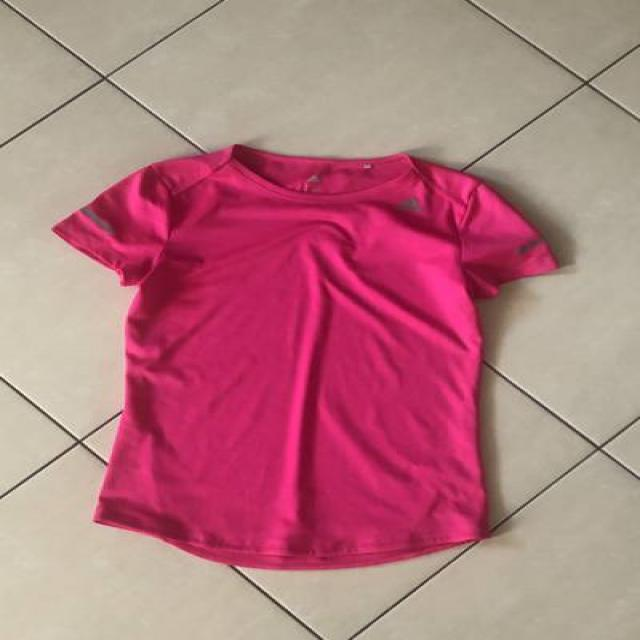Clothes -Biodegradable-: (48, 143, 560, 574)
